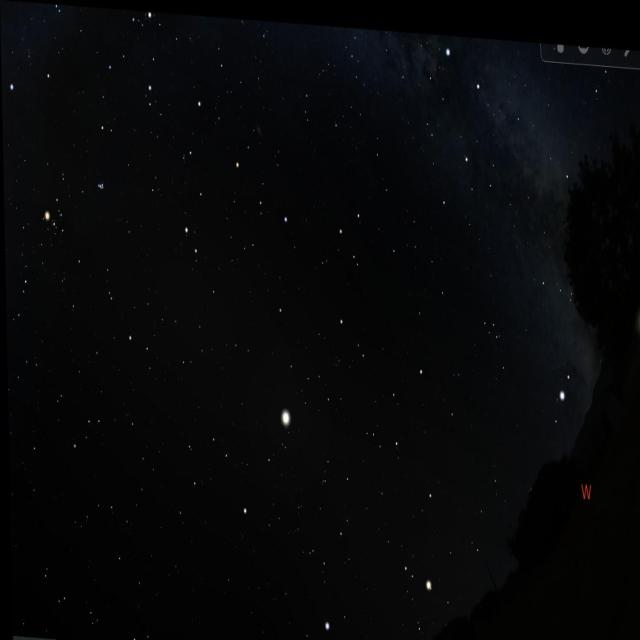cygnus: (442, 28, 570, 187)
pleiades: (92, 177, 107, 199)
taurus: (28, 158, 116, 287)
